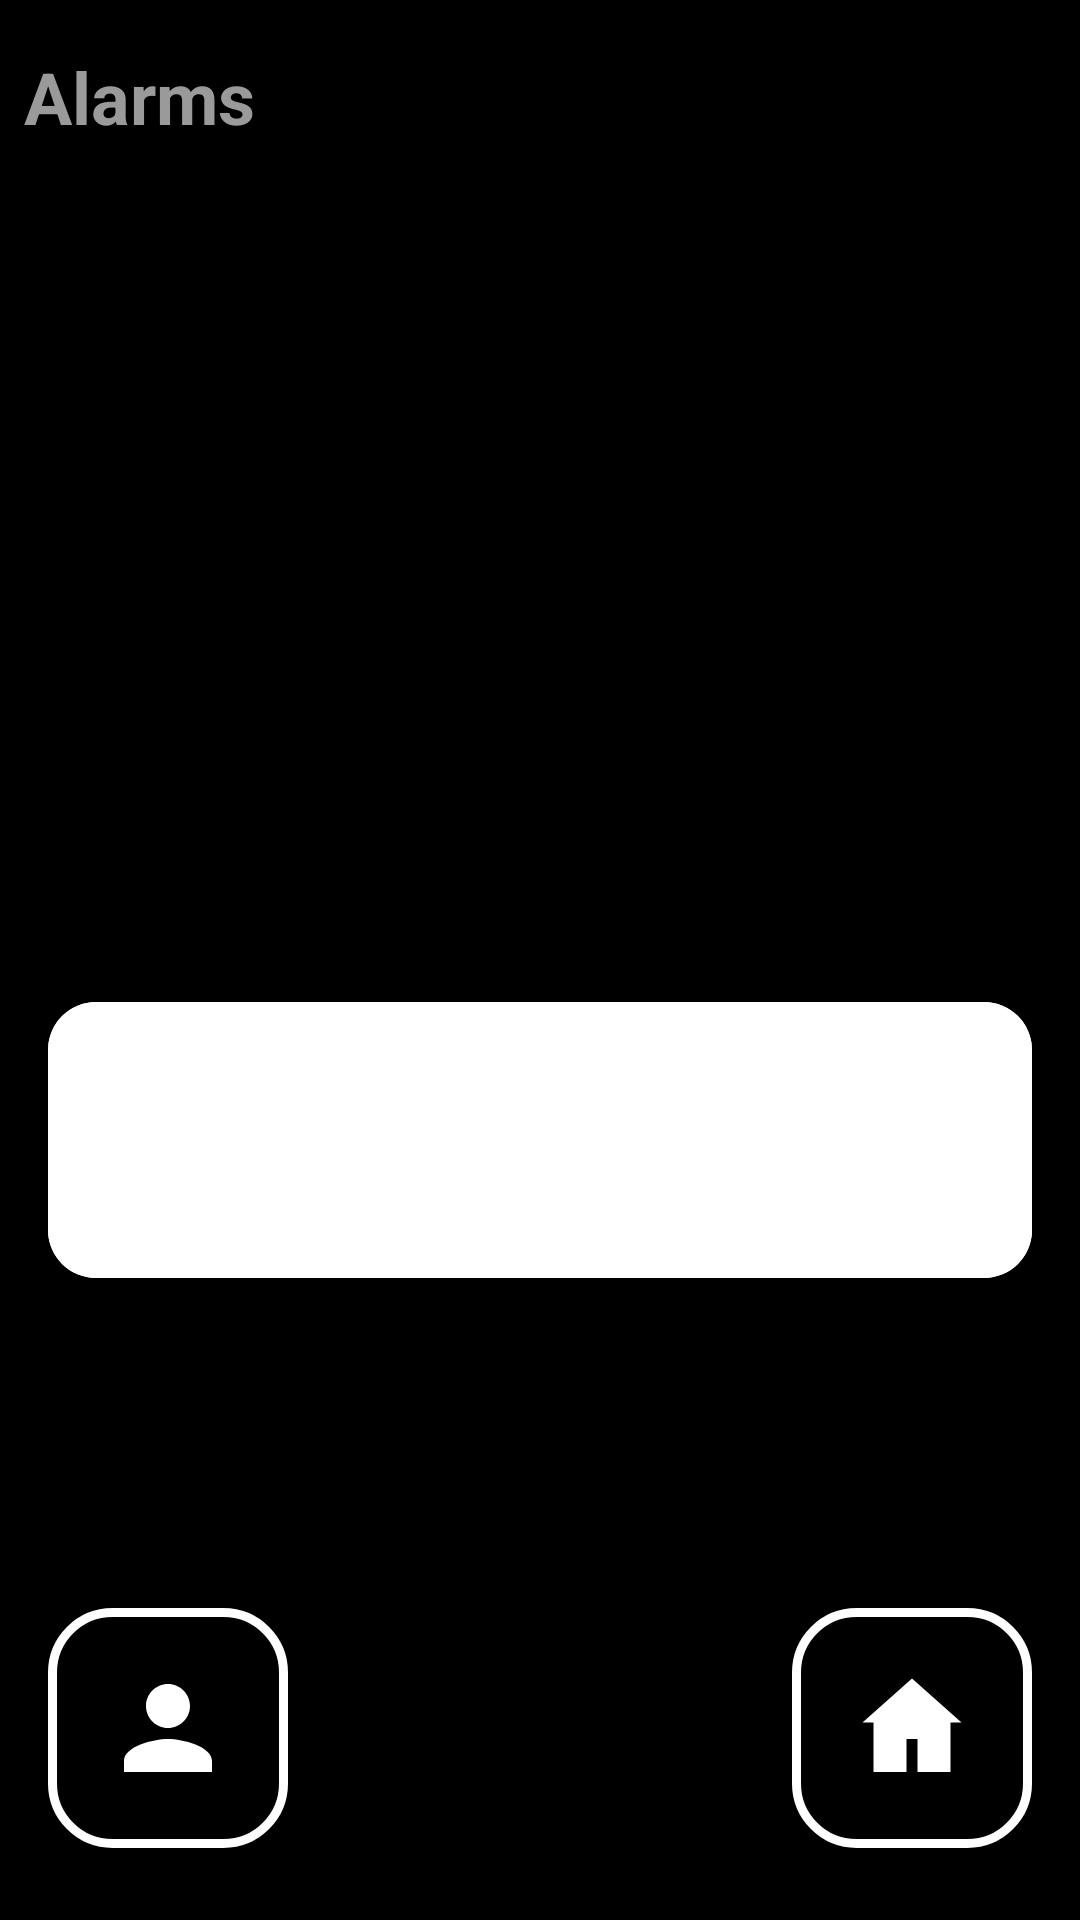

Icons on this 1080x1920 Android screen, each with the point to tap as [x,y]:
Home: [912,1728]
